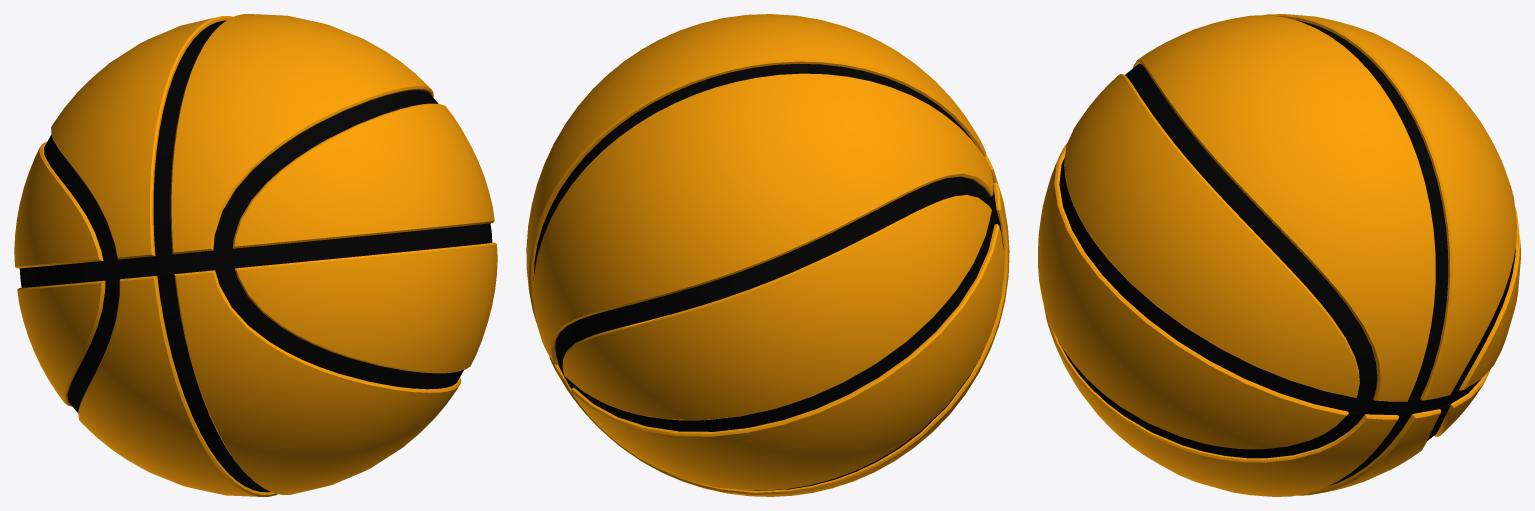
The model's file is 727_basket_ball.glb.
3 renders of one model, left to right at view 1: azimuth 30°, elevation 25°; view 2: azimuth 150°, elevation 25°; view 3: azimuth 270°, elevation 25°, orthographic.
Visible parts, largest first — view 1: Body; view 2: Body; view 3: Body.
Boxes of the visible parts, x1=… form: Body: x1=14, y1=14, x2=497, y2=496; Body: x1=526, y1=14, x2=1009, y2=496; Body: x1=1038, y1=14, x2=1520, y2=496.
Size of the model in its own units: 0.2449 by 0.2446 by 0.2448.
